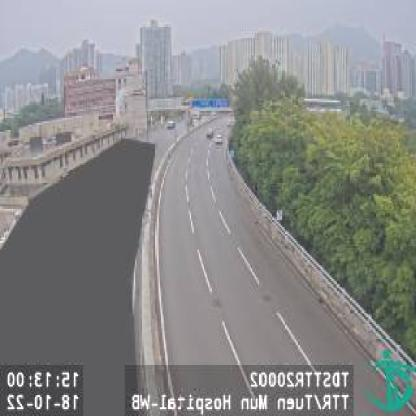Car: (214, 132, 223, 145)
